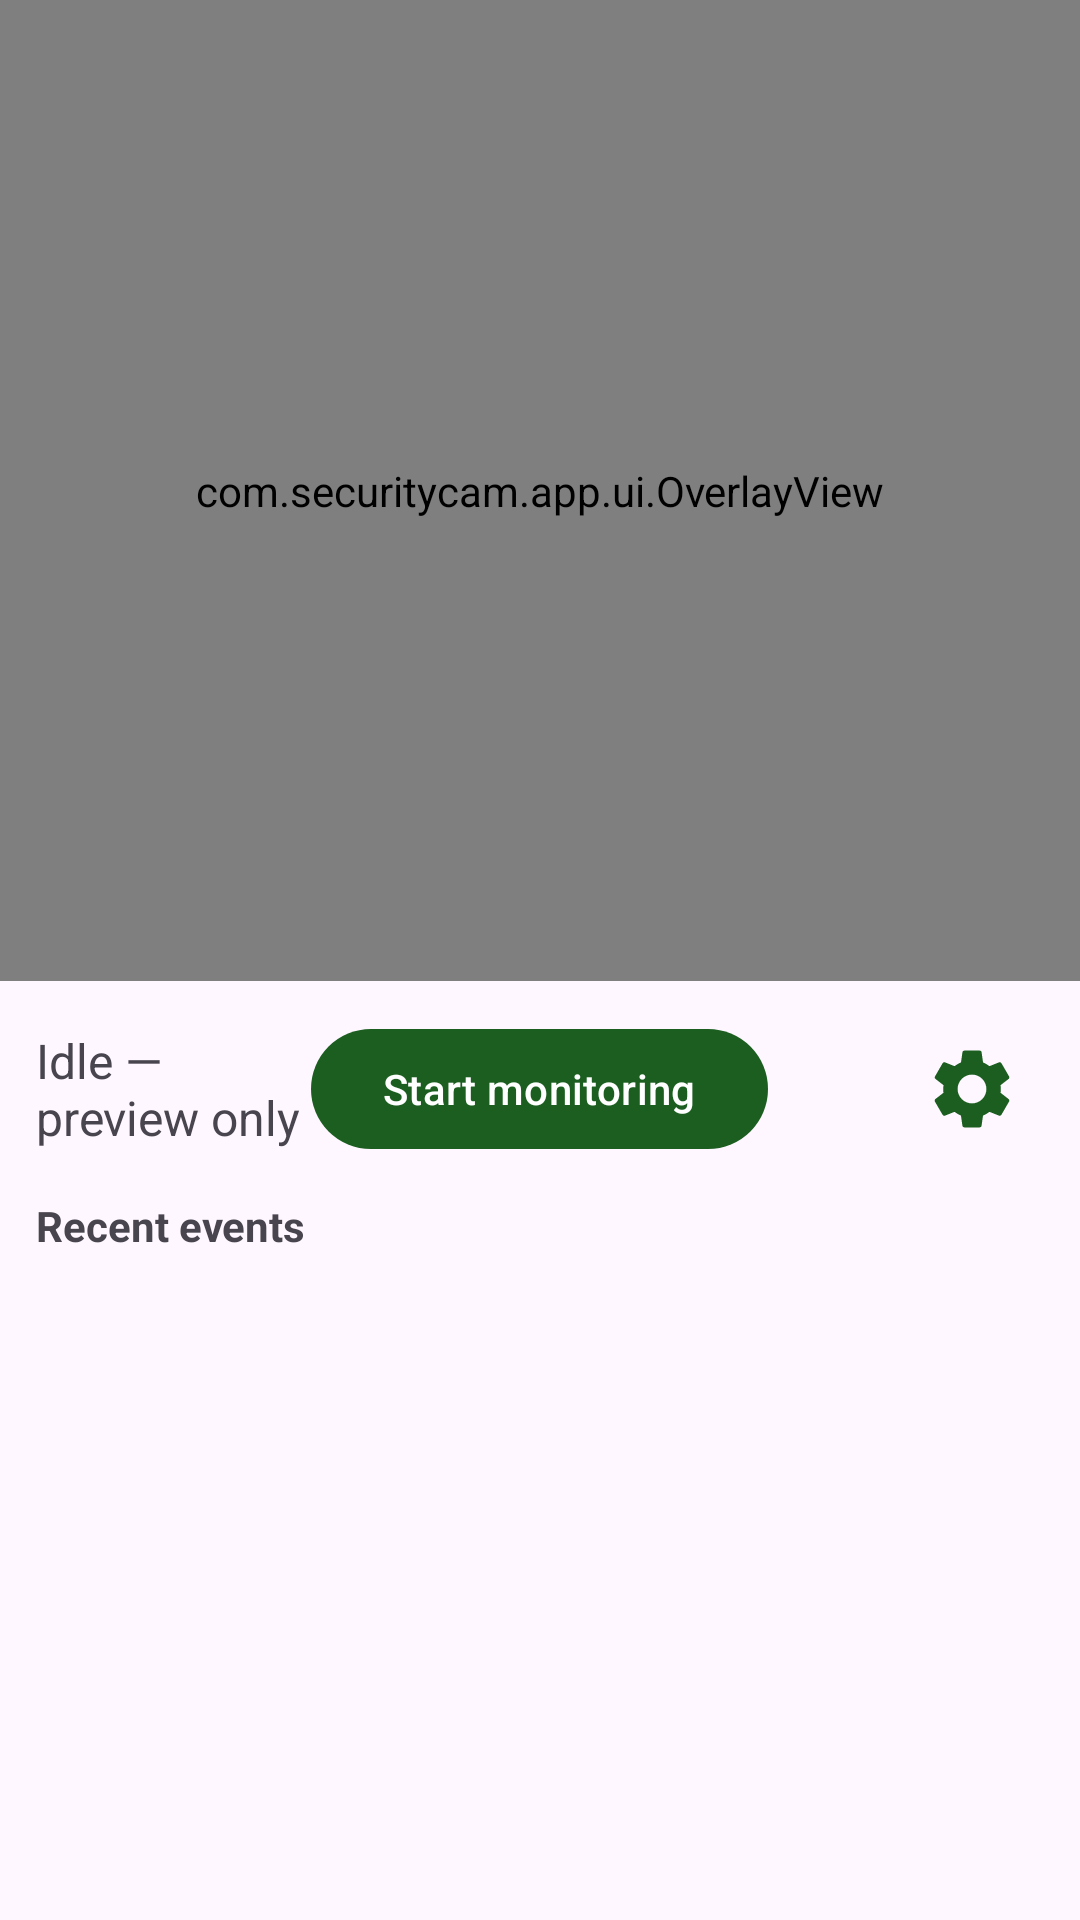

Point at icon controls on the screen. Image size 1080px×1920px, points as [x,y].
Settings: [972,1089]
